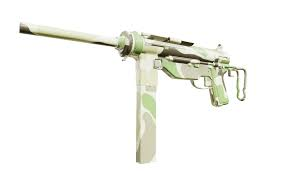gun: (15, 19, 249, 165)
